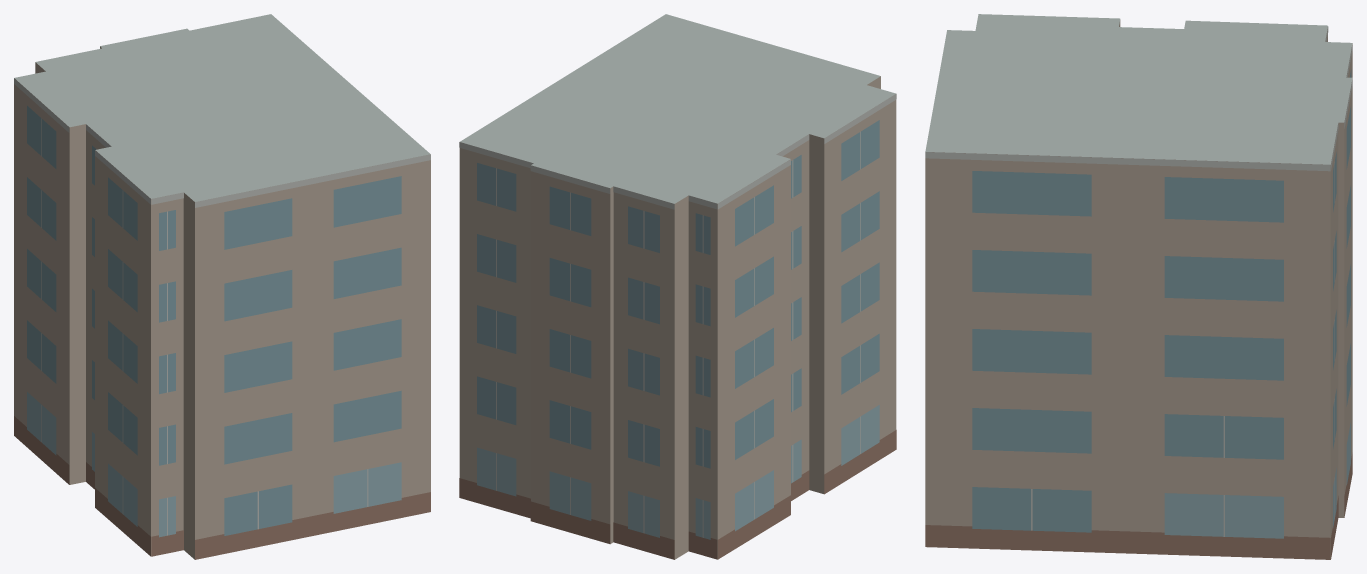
File: survey-upis-32764283.glb
3 renders of one model, left to right at view 1: azimuth 30°, elevation 25°; view 2: azimuth 150°, elevation 25°; view 3: azimuth 270°, elevation 25°, orthographic. The views are drawn at different scales.
Parts seen in each view (by area): view 1: survey-upis-32764283.tmp; view 2: survey-upis-32764283.tmp; view 3: survey-upis-32764283.tmp.
Boxes of the visible parts, x1,y1,x2,y2 form: survey-upis-32764283.tmp: (14, 14, 430, 559); survey-upis-32764283.tmp: (459, 14, 896, 559); survey-upis-32764283.tmp: (925, 14, 1352, 559).
Bounding box in the file's own units: 12.07 × 14.75 × 14.47.
